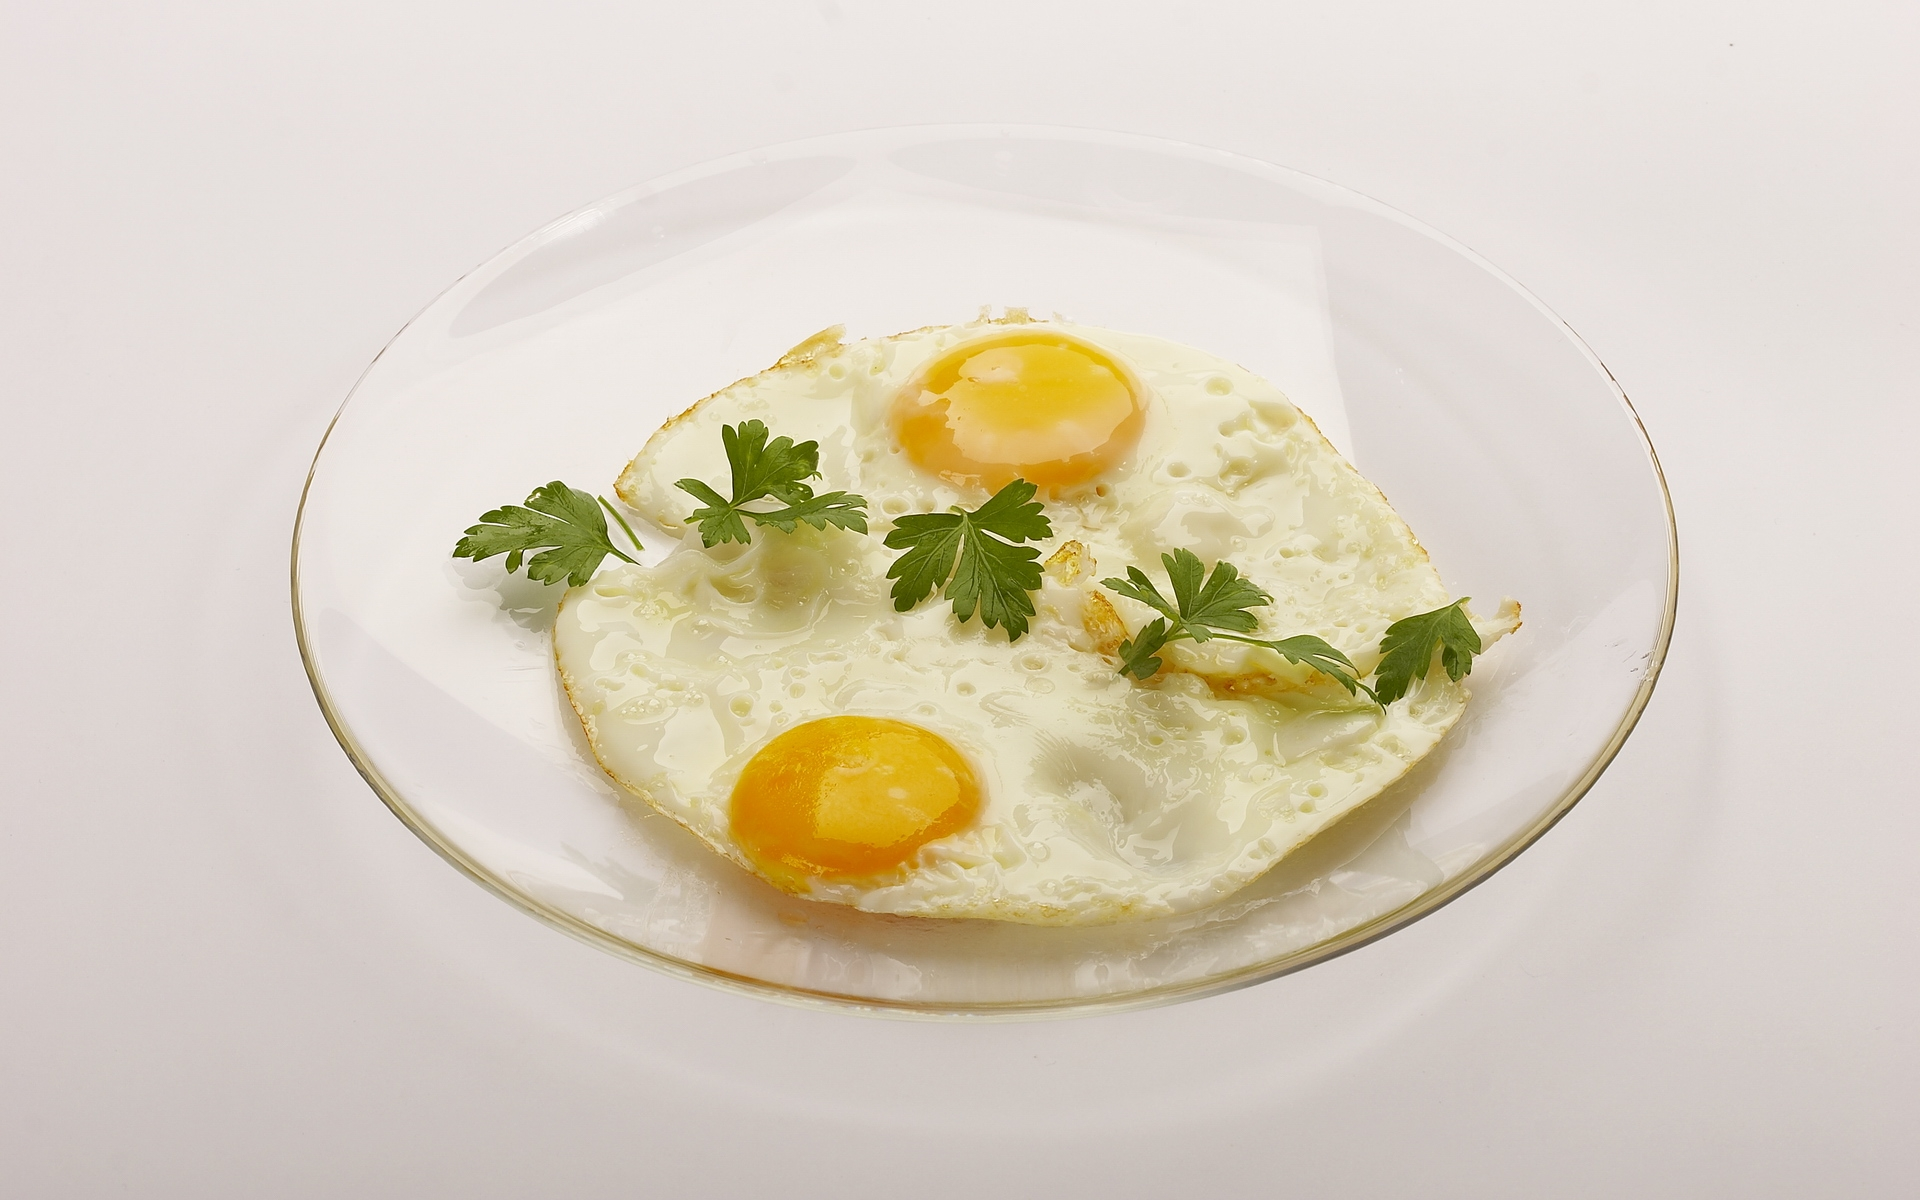fried egg: (629, 294, 1509, 694), (523, 588, 1485, 953)
